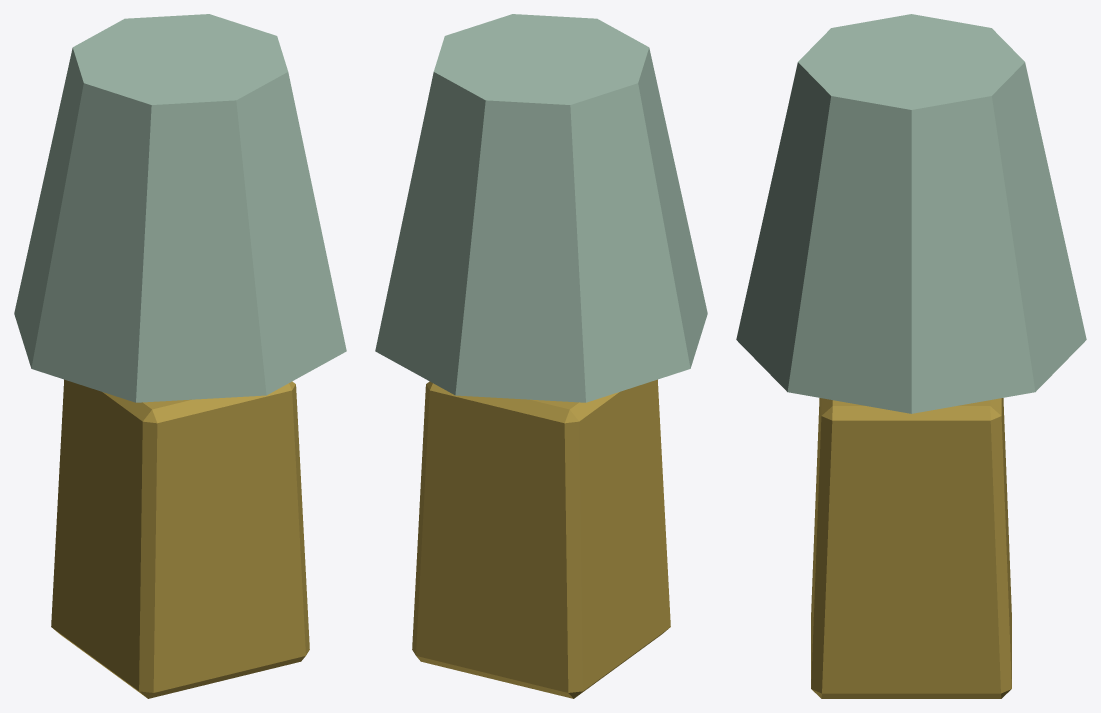
File: table-lamp-07.glb
3 views of the same model, side by side, from view 1: azimuth 30°, elevation 25°; view 2: azimuth 150°, elevation 25°; view 3: azimuth 270°, elevation 25° (orthographic).
Visible parts, largest first — view 1: table_lamp_07; view 2: table_lamp_07; view 3: table_lamp_07.
Boxes of the visible parts, left/top/right/bottom form: table_lamp_07: left=14, top=14, right=346, bottom=698; table_lamp_07: left=375, top=14, right=707, bottom=698; table_lamp_07: left=736, top=14, right=1086, bottom=698.
Bounding box in the file's own units: 0.2584 × 0.4873 × 0.2584.
